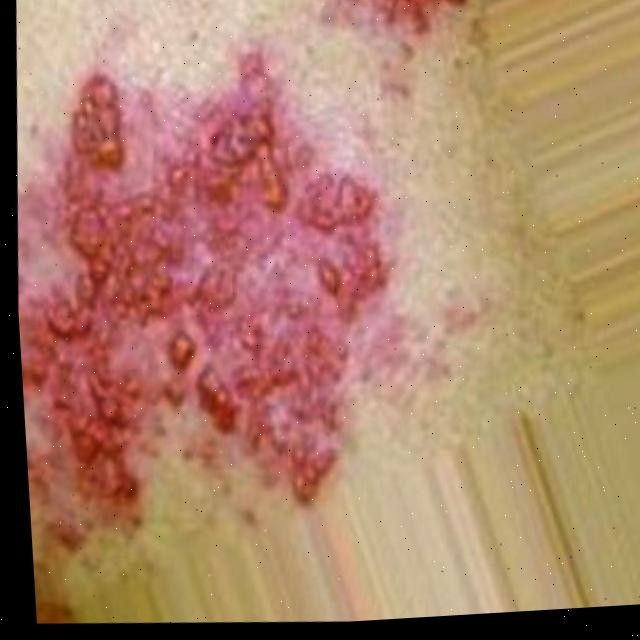Shingles: (4, 50, 399, 546), (318, 0, 460, 6)
